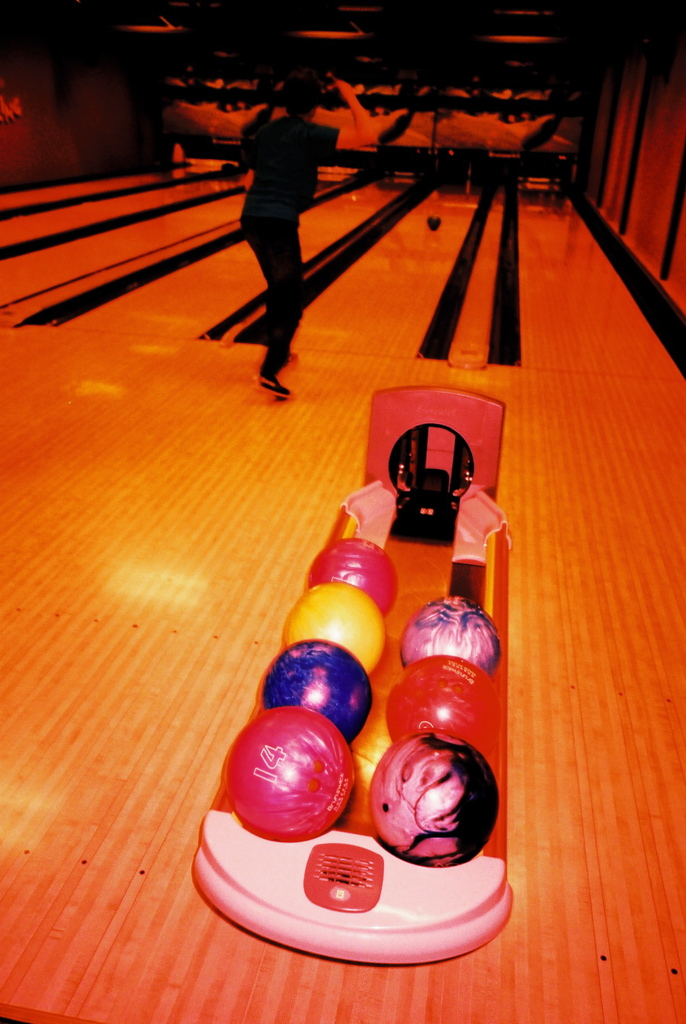Person: (233, 70, 379, 400)
